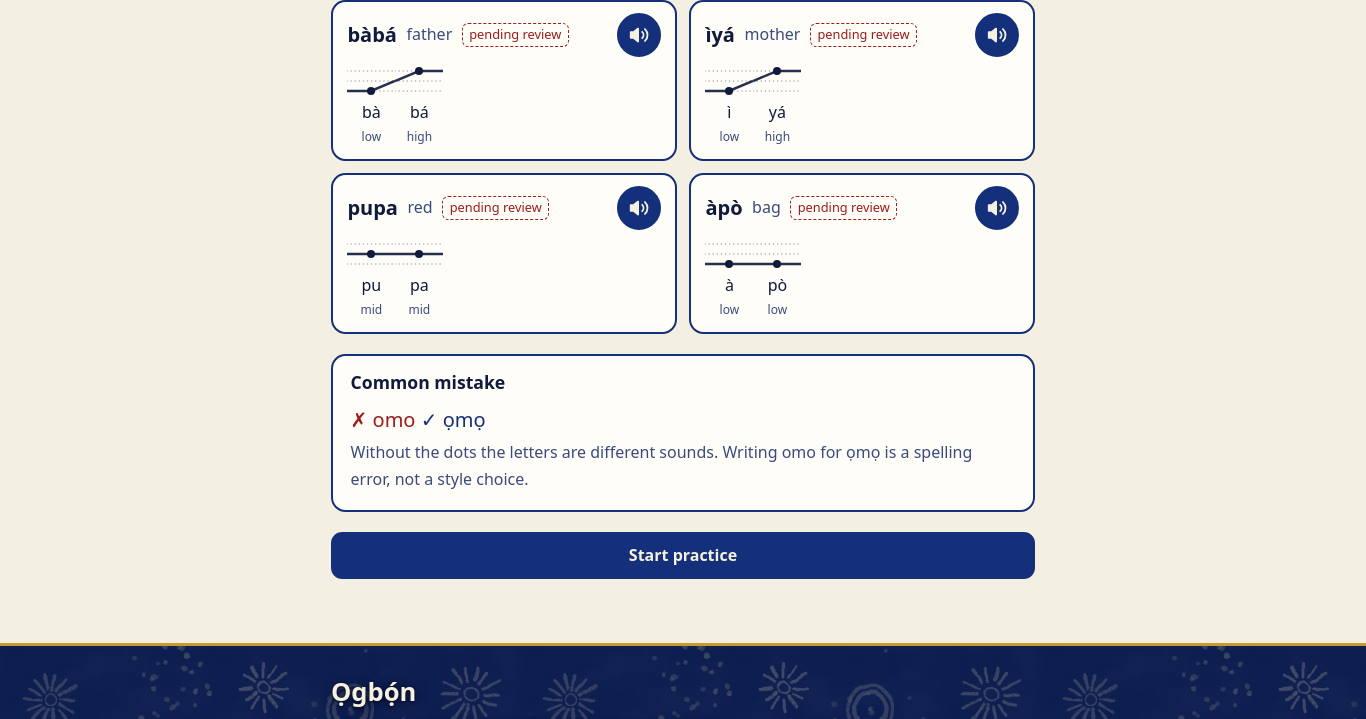
Test: lesson to lesson navigation › Next lesson opens the new lesson on its instruction page, not the old results
(page scrolled)
Click the button "Start practice" at point(683, 555), box [331,532,1035,579]
(page scrolled)
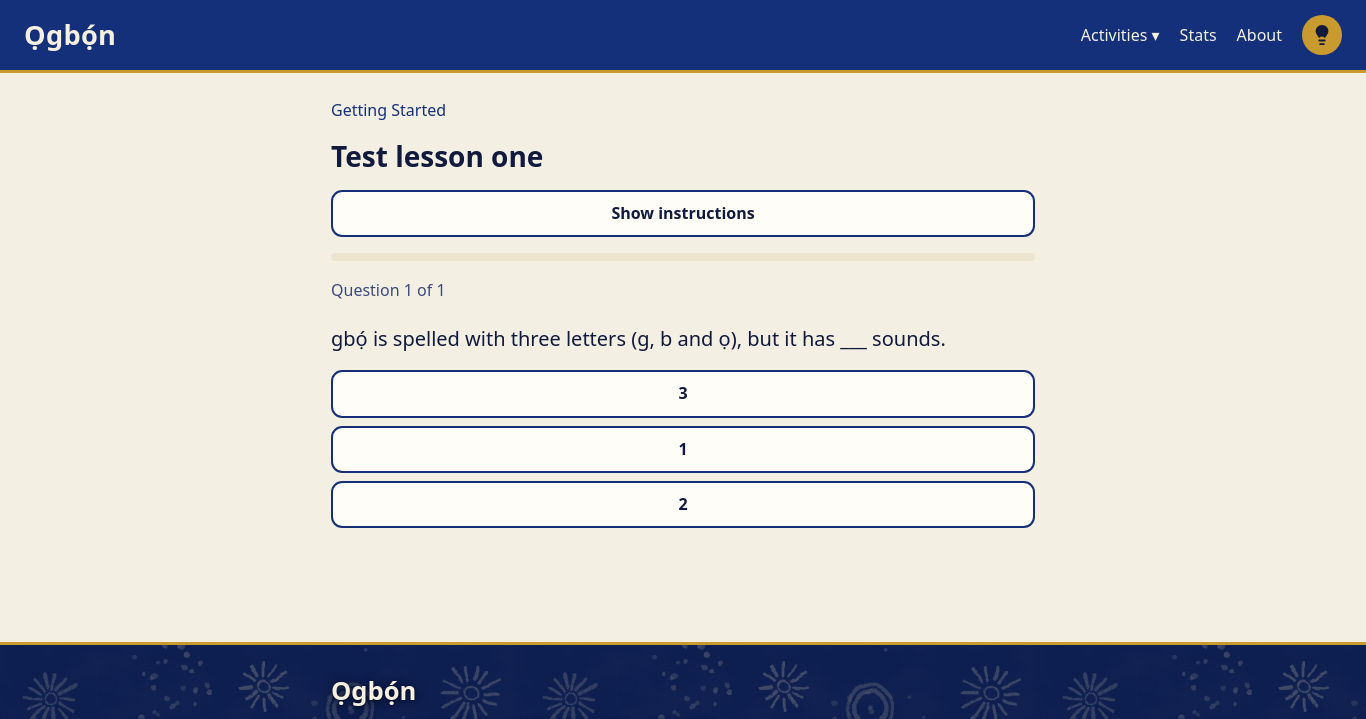
Click the button with test id "choice" showing "3" at point(683, 394), box [331,370,1035,418]
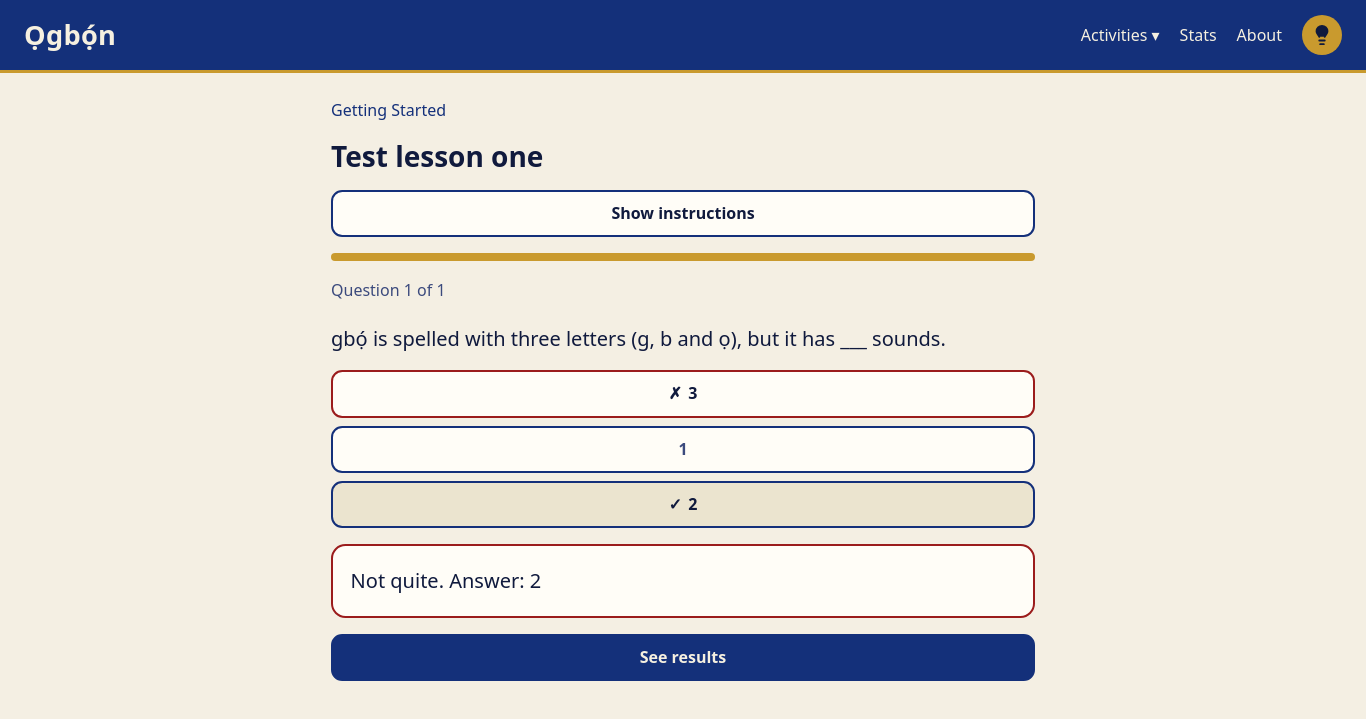
Click the button "See results" at point(683, 658), box [331,634,1035,681]
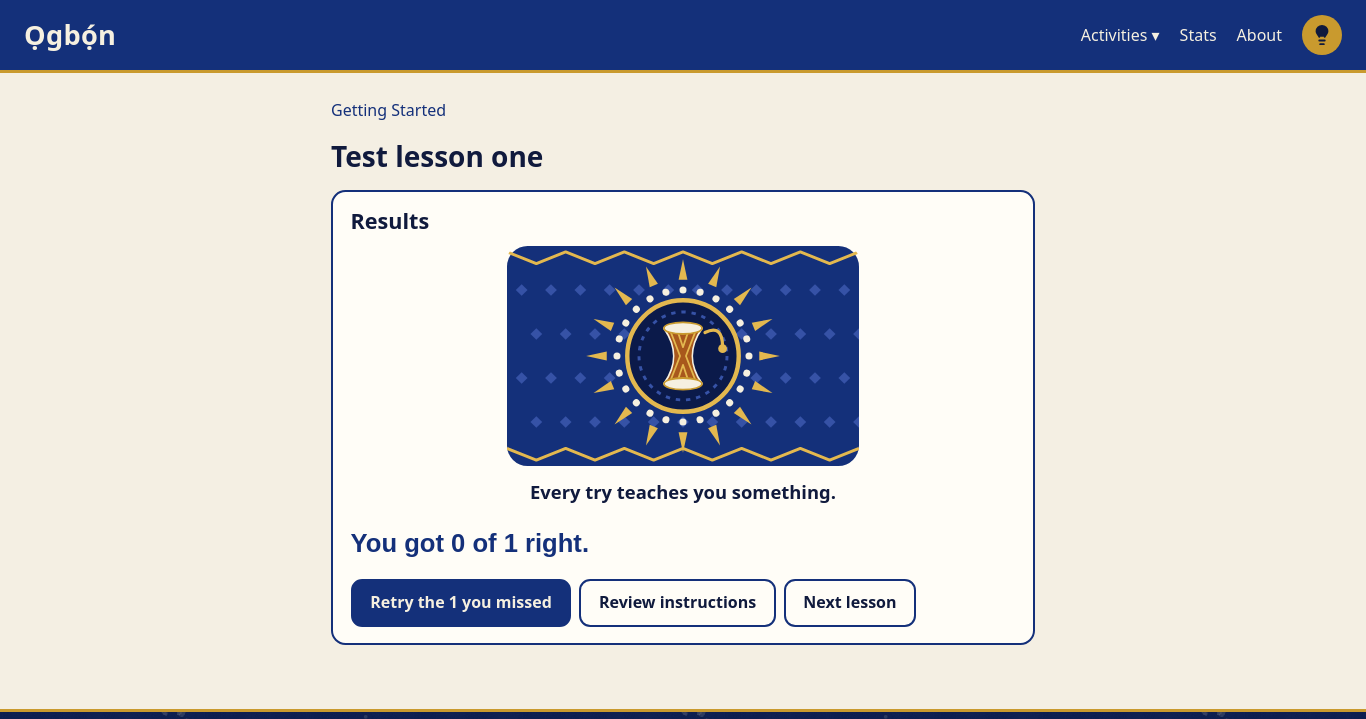
Click the link "Next lesson" at point(850, 603), box [784,579,916,627]
(page scrolled)
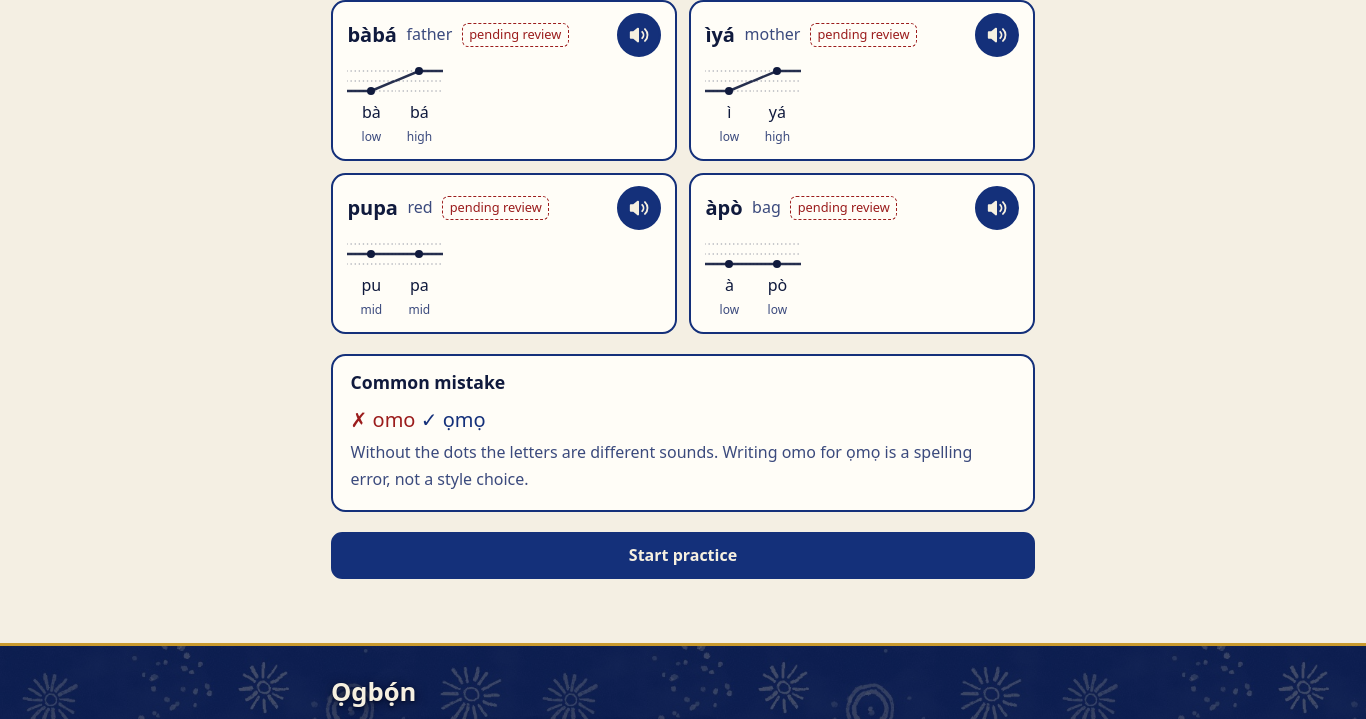
Check: the button "Start practice" is shown, box [331,532,1035,579]
Check: the heading "Results" is gone
